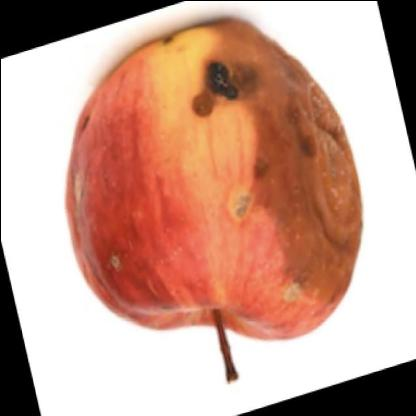defect: (180, 14, 364, 304), (60, 98, 112, 226), (93, 232, 153, 300)
